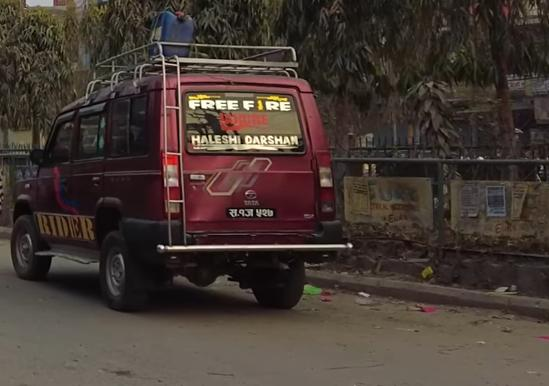SUV: (6, 35, 354, 314)
